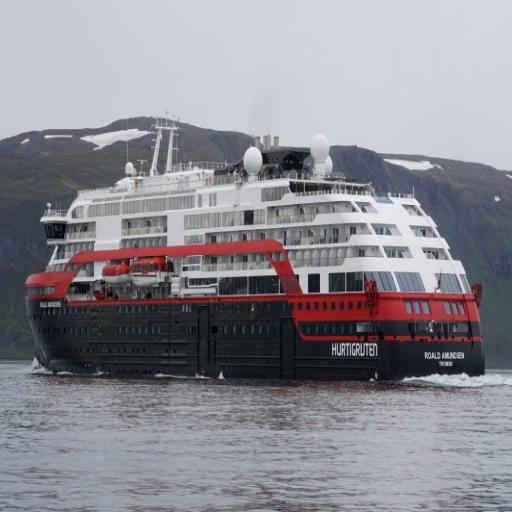cruises: (22, 106, 489, 393)
